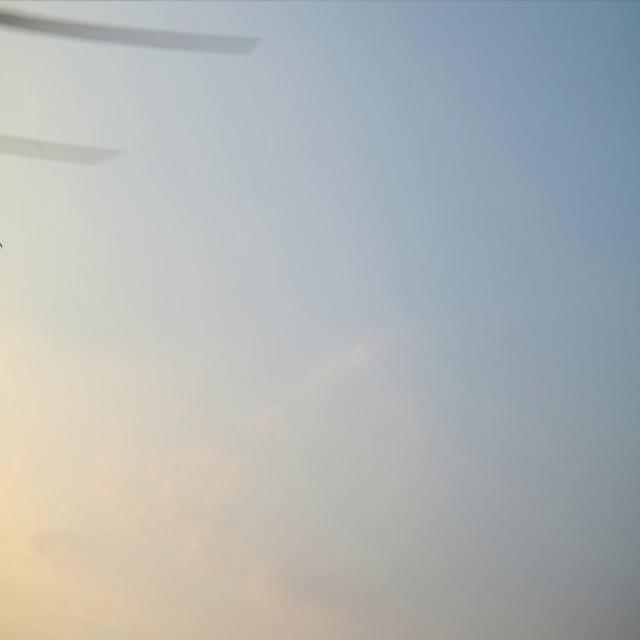UAV: (0, 244, 640, 248)
